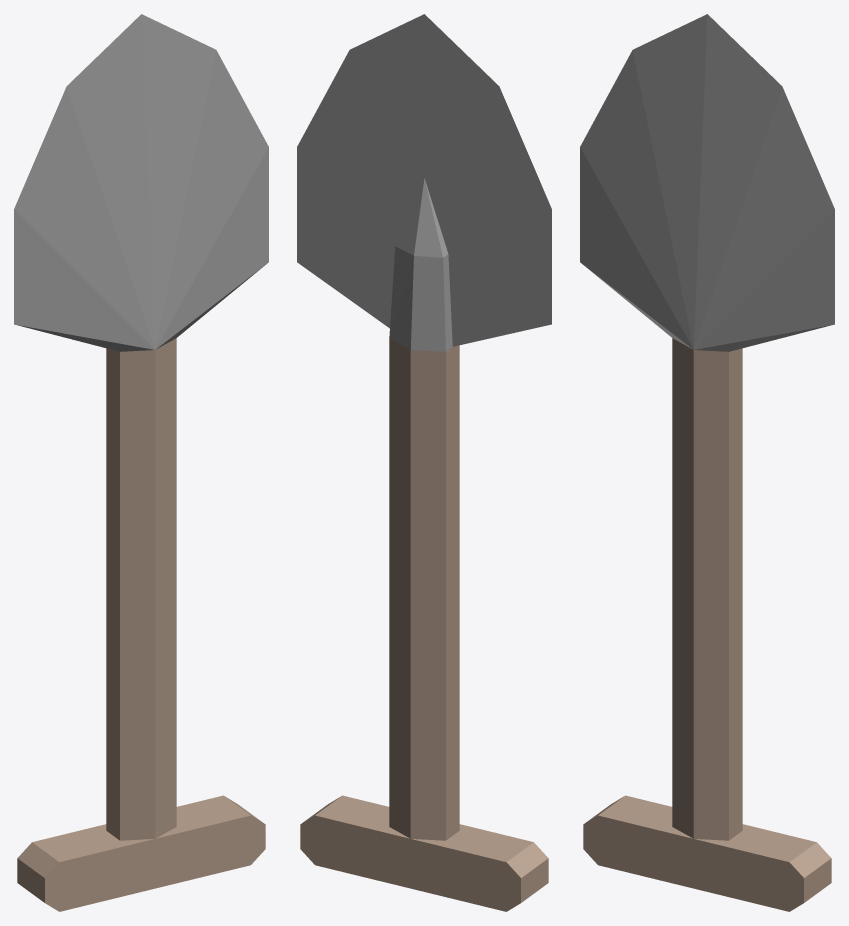
Rendered from Shovel.fbx.
3 renders of one model, left to right at view 1: azimuth 30°, elevation 25°; view 2: azimuth 150°, elevation 25°; view 3: azimuth 330°, elevation 25°, orthographic.
Visible parts, largest first — view 1: Shovel; view 2: Shovel; view 3: Shovel.
Part boxes in pixels (<box>): Shovel: <box>14,14,268,911</box>; Shovel: <box>297,14,551,911</box>; Shovel: <box>580,14,834,911</box>.
Bounding box in the file's own units: 0.2078 × 0.674 × 0.0387.
